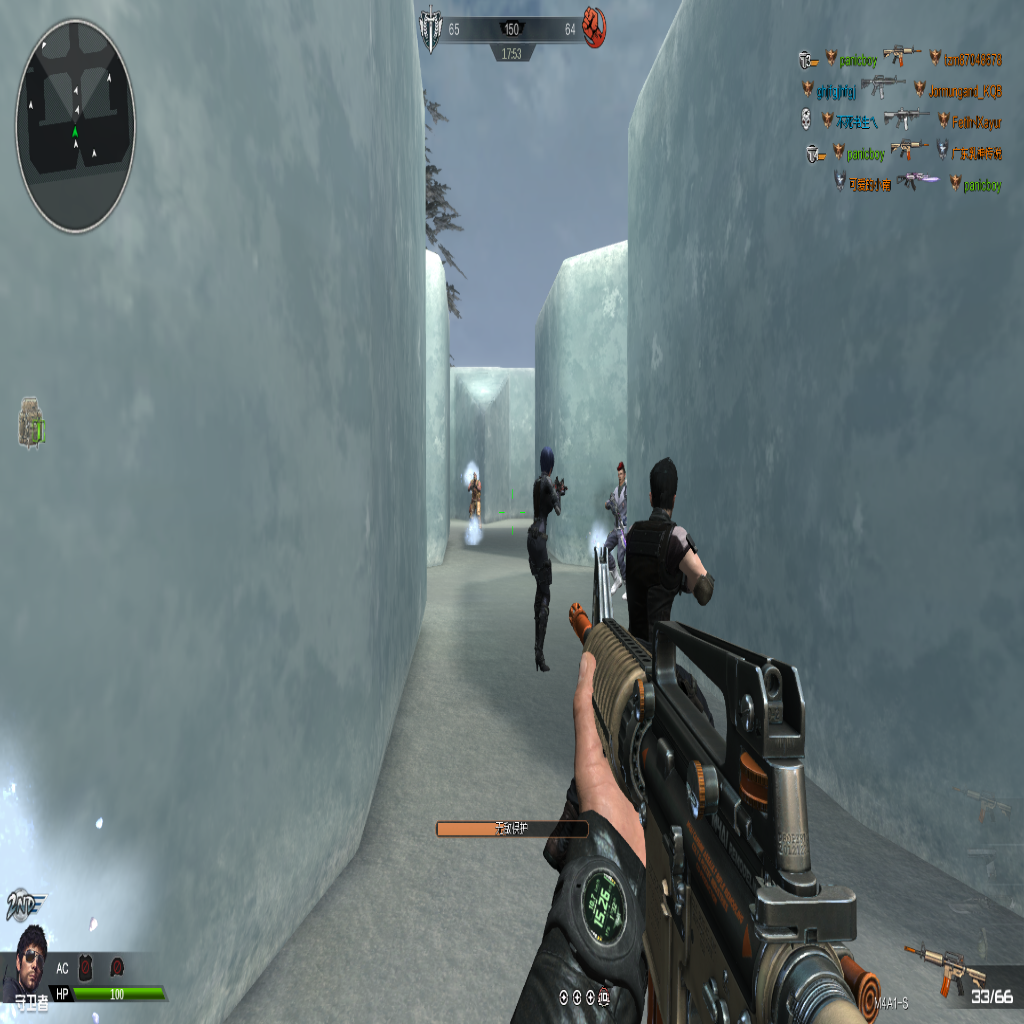ct: (629, 455, 707, 655), (529, 447, 562, 680)
tt: (605, 460, 630, 585), (468, 469, 481, 519)
